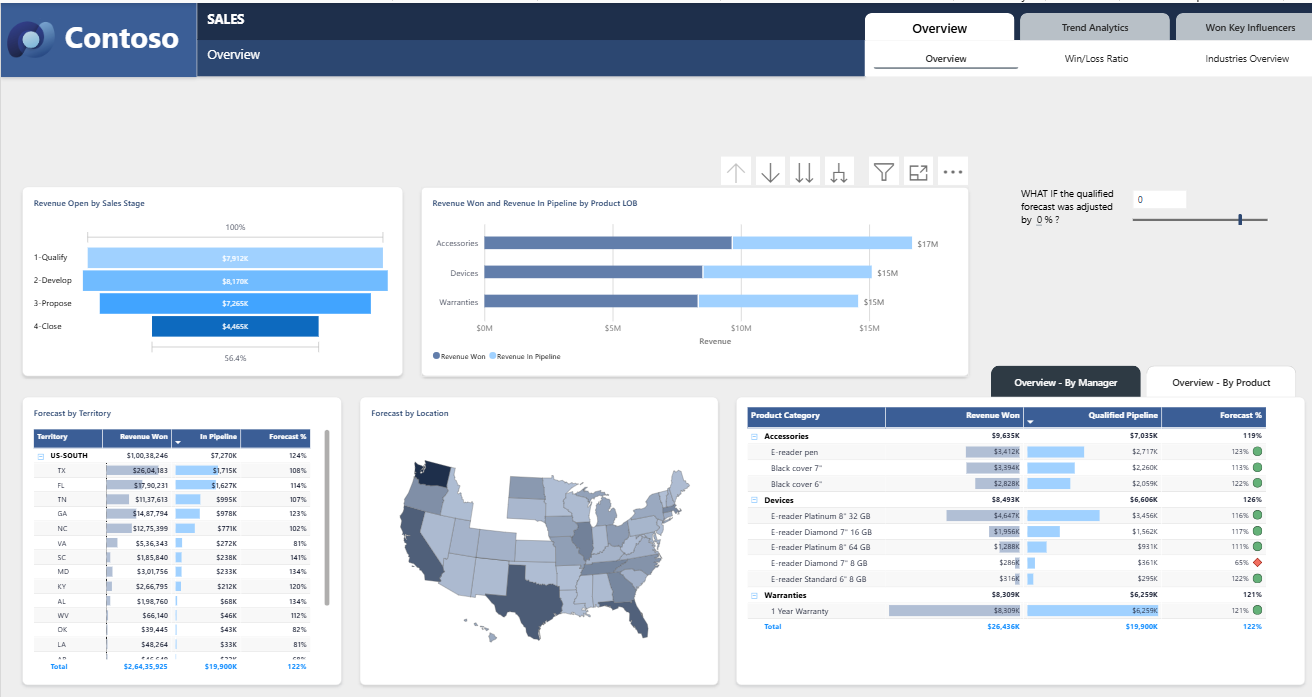

This screenshot's page, from the dashboard's own definition file:
{"tool":"powerbi","page":{"name":"Overview","canvas":[1920,1080],"ordinal":0},"visuals":[{"type":"group","id":"g1","title":"Header","box":[0,0,1918,107.6],"z":0},{"type":"shape","title":"Horizontal Shape","box":[283.4,53.1,967.2,54],"z":0,"group":"g1"},{"type":"bookmarkNavigator","box":[1434,525.2,443.6,47.2],"z":500},{"type":"shape","title":"Horizontal Shape","box":[283.4,0.3,1633.9,53.8],"z":2000,"group":"g1"},{"type":"textbox","box":[1433.5,957.8,395,29.7],"z":2000},{"type":"pageNavigator","box":[1250,15,667.5,40],"z":2500,"group":"g1"},{"type":"shape","title":"Horizontal Shape","box":[1249.9,54,668,52.1],"z":2750,"group":"g1"},{"type":"shape","title":"Horizontal Shape","box":[0,0,283.5,107.6],"z":3000,"group":"g1"},{"type":"pivotTable","title":"Revenue and forecast by Product","fields":{"Rows":["Products.Product LOB","Products.Product"],"Values":["Opportunities.Revenue Won","Opportunities.Revenue In Pipeline","Opportunities.Forecast %"]},"box":[1063.8,570.8,823.8,417.3],"z":3000},{"type":"pageNavigator","box":[1262.5,63.8,646.2,32.5],"z":3250,"group":"g1"},{"type":"cardVisual","title":"Revenue won","fields":{"Data":["Opportunities.Revenue Won","Opportunities.Revenue In Pipeline","Owners.Rev Goal","Opportunities.Forecast %"]},"box":[30.3,138.4,1861.6,93],"z":4000},{"type":"textbox","title":"Report Title","box":[298.6,61.4,438.7,36.5],"z":4125,"group":"g1"},{"type":"textbox","title":"Report Title Category","box":[299,11.5,438.7,37.2],"z":4187,"group":"g1"},{"type":"textbox","title":"Company name","box":[93,17.3,190.3,88.6],"z":4250,"group":"g1"},{"type":"image","title":"Company Logo","box":[8.6,17.1,68.6,73.6],"z":4500,"group":"g1"},{"type":"barChart","title":"Revenue Won and Revenue In Pipeline by Product LOB","fields":{"Category":["Products.Product LOB","Products.Product"],"Y":["Opportunities.Revenue Won","Opportunities.Revenue In Pipeline"]},"box":[607.6,265.9,793.5,274.6],"z":7000},{"type":"shapeMap","title":"Forecast by Location","fields":{"Category":["Accounts.Street Hierarchy.State or Province"],"Value":["Opportunities.Revenue In Pipeline"]},"box":[518.9,570.8,518.9,417.3],"z":8000},{"type":"funnel","fields":{"Category":["Opportunities.PipelineStep"],"Y":["Opportunities.Revenue Open"]},"box":[30.3,265.9,551.4,274.6],"z":9000},{"type":"pivotTable","title":"Forecast by Territory","fields":{"Rows":["Territories.Territory","Accounts.State or Province"],"Values":["Opportunities.Revenue Won","Opportunities.Revenue In Pipeline","Opportunities.Forecast %"]},"box":[30.3,570.8,462.7,417.3],"z":10000},{"type":"slicer","title":"Forecast Adjustment","fields":{"Values":["Forecast Adjustment.Forecast Adjustment"]},"box":[1630.3,265.9,213.3,63.7],"z":11000},{"type":"textbox","title":"Label - Mgr Forecast Override","box":[1476.8,265.9,138.5,63.7],"z":11500}]}

Visuals, with their boxes on the page's 1920x1080 design canvas (x1, y1, x2, y2). These are canvas units, not pixel positions in the 1312x697 screenshot, which may show the page scaled, cropped or inside an application window:
"Header" group: <region>0, 0, 1918, 108</region>
"Horizontal Shape" shape: <region>283, 53, 1251, 107</region>
bookmarkNavigator: <region>1434, 525, 1878, 572</region>
"Horizontal Shape" shape: <region>283, 0, 1917, 54</region>
textbox: <region>1434, 958, 1828, 988</region>
pageNavigator: <region>1250, 15, 1918, 55</region>
"Horizontal Shape" shape: <region>1250, 54, 1918, 106</region>
"Horizontal Shape" shape: <region>0, 0, 284, 108</region>
"Revenue and forecast by Product" pivotTable: <region>1064, 571, 1888, 988</region>
pageNavigator: <region>1262, 64, 1909, 96</region>
"Revenue won" cardVisual: <region>30, 138, 1892, 231</region>
"Report Title" textbox: <region>299, 61, 737, 98</region>
"Report Title Category" textbox: <region>299, 12, 738, 49</region>
"Company name" textbox: <region>93, 17, 283, 106</region>
"Company Logo" image: <region>9, 17, 77, 91</region>
"Revenue Won and Revenue In Pipeline by Product LOB" barChart: <region>608, 266, 1401, 540</region>
"Forecast by Location" shapeMap: <region>519, 571, 1038, 988</region>
funnel - Opportunities.PipelineStep x Opportunities.Revenue Open: <region>30, 266, 582, 540</region>
"Forecast by Territory" pivotTable: <region>30, 571, 493, 988</region>
"Forecast Adjustment" slicer: <region>1630, 266, 1844, 330</region>
"Label - Mgr Forecast Override" textbox: <region>1477, 266, 1615, 330</region>
